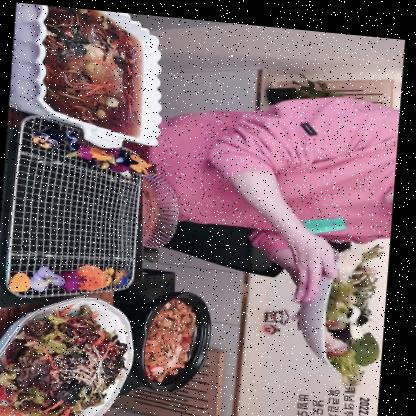streamer: (146, 75, 402, 303)
